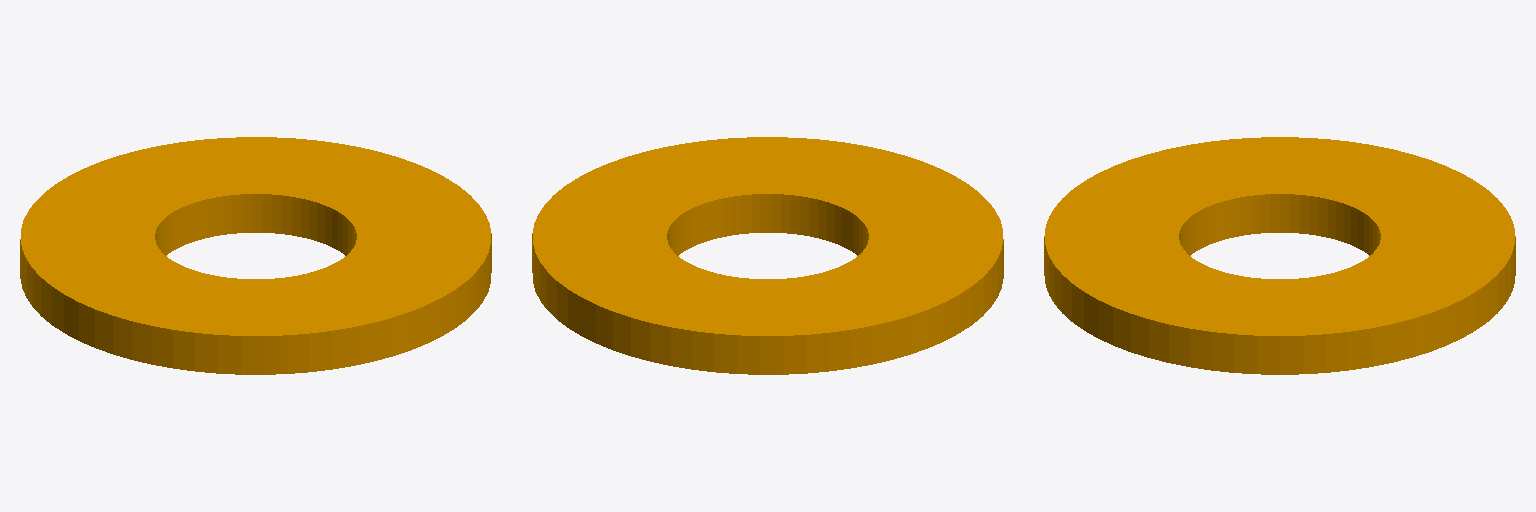
URDF robot description (washer):
<?xml version="1.0" ?>
<robot name="washer">
  <link name="base_link">
    <inertial>
      <origin xyz="0 0 0.0015875" rpy="0 0 0"/>
      <mass value="0.016"/>
      <inertia ixx="1.64677417e-06" ixy="0" ixz="0" iyy="1.64677417e-06" iyz="0" izz="3.26666667e-06"/>
    </inertial>
    <visual name="visual">
      <origin xyz="0 0 0" rpy="0 0 0"/>
      <geometry>
        <mesh filename="meshes/visual.obj" scale="1 1 1"/>
      </geometry>
    </visual>
    <collision name="wedge_00">
      <origin xyz="0 0 0" rpy="0 0 0"/>
      <geometry>
        <mesh filename="meshes/collision/wedge_00.obj" scale="1 1 1"/>
      </geometry>
    </collision>
    <collision name="wedge_01">
      <origin xyz="0 0 0" rpy="0 0 0"/>
      <geometry>
        <mesh filename="meshes/collision/wedge_01.obj" scale="1 1 1"/>
      </geometry>
    </collision>
    <collision name="wedge_02">
      <origin xyz="0 0 0" rpy="0 0 0"/>
      <geometry>
        <mesh filename="meshes/collision/wedge_02.obj" scale="1 1 1"/>
      </geometry>
    </collision>
    <collision name="wedge_03">
      <origin xyz="0 0 0" rpy="0 0 0"/>
      <geometry>
        <mesh filename="meshes/collision/wedge_03.obj" scale="1 1 1"/>
      </geometry>
    </collision>
    <collision name="wedge_04">
      <origin xyz="0 0 0" rpy="0 0 0"/>
      <geometry>
        <mesh filename="meshes/collision/wedge_04.obj" scale="1 1 1"/>
      </geometry>
    </collision>
    <collision name="wedge_05">
      <origin xyz="0 0 0" rpy="0 0 0"/>
      <geometry>
        <mesh filename="meshes/collision/wedge_05.obj" scale="1 1 1"/>
      </geometry>
    </collision>
    <collision name="wedge_06">
      <origin xyz="0 0 0" rpy="0 0 0"/>
      <geometry>
        <mesh filename="meshes/collision/wedge_06.obj" scale="1 1 1"/>
      </geometry>
    </collision>
    <collision name="wedge_07">
      <origin xyz="0 0 0" rpy="0 0 0"/>
      <geometry>
        <mesh filename="meshes/collision/wedge_07.obj" scale="1 1 1"/>
      </geometry>
    </collision>
    <collision name="wedge_08">
      <origin xyz="0 0 0" rpy="0 0 0"/>
      <geometry>
        <mesh filename="meshes/collision/wedge_08.obj" scale="1 1 1"/>
      </geometry>
    </collision>
    <collision name="wedge_09">
      <origin xyz="0 0 0" rpy="0 0 0"/>
      <geometry>
        <mesh filename="meshes/collision/wedge_09.obj" scale="1 1 1"/>
      </geometry>
    </collision>
    <collision name="wedge_10">
      <origin xyz="0 0 0" rpy="0 0 0"/>
      <geometry>
        <mesh filename="meshes/collision/wedge_10.obj" scale="1 1 1"/>
      </geometry>
    </collision>
    <collision name="wedge_11">
      <origin xyz="0 0 0" rpy="0 0 0"/>
      <geometry>
        <mesh filename="meshes/collision/wedge_11.obj" scale="1 1 1"/>
      </geometry>
    </collision>
    <collision name="wedge_12">
      <origin xyz="0 0 0" rpy="0 0 0"/>
      <geometry>
        <mesh filename="meshes/collision/wedge_12.obj" scale="1 1 1"/>
      </geometry>
    </collision>
    <collision name="wedge_13">
      <origin xyz="0 0 0" rpy="0 0 0"/>
      <geometry>
        <mesh filename="meshes/collision/wedge_13.obj" scale="1 1 1"/>
      </geometry>
    </collision>
    <collision name="wedge_14">
      <origin xyz="0 0 0" rpy="0 0 0"/>
      <geometry>
        <mesh filename="meshes/collision/wedge_14.obj" scale="1 1 1"/>
      </geometry>
    </collision>
    <collision name="wedge_15">
      <origin xyz="0 0 0" rpy="0 0 0"/>
      <geometry>
        <mesh filename="meshes/collision/wedge_15.obj" scale="1 1 1"/>
      </geometry>
    </collision>
  </link>
</robot>

--- Facts derived from the render (not from the file) ---
The picture shows the robot from 3 angles, left to right: view 1: azimuth 30°, elevation 25°; view 2: azimuth 150°, elevation 25°; view 3: azimuth 270°, elevation 25°; orthographic projection.
Model washer with 1 links and 0 joints (none), rooted at base_link, posed all joints at 0.
Visible links, largest first — view 1: base_link; view 2: base_link; view 3: base_link.
Boxes of the visible links, x1=… form: base_link: x1=20, y1=137, x2=491, y2=374; base_link: x1=532, y1=137, x2=1003, y2=374; base_link: x1=1044, y1=137, x2=1515, y2=374.
Size in the robot's own frame: 0.035 by 0.035 by 0.0032 metres.
Meshes: 1 distinct files referenced, 1 mesh visuals loaded (1 OBJ).
